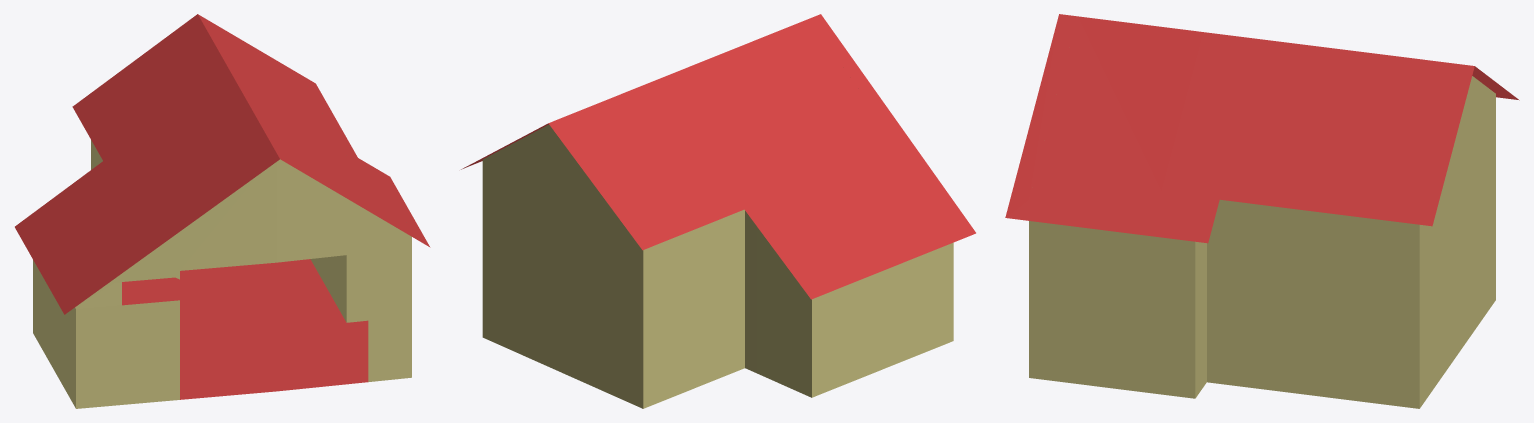
3 views of the same model, side by side, from view 1: azimuth 30°, elevation 25°; view 2: azimuth 150°, elevation 25°; view 3: azimuth 270°, elevation 25° (orthographic). The views are drawn at different scales.
Size of the model in its own units: 20.6 by 20.28 by 12.73.
